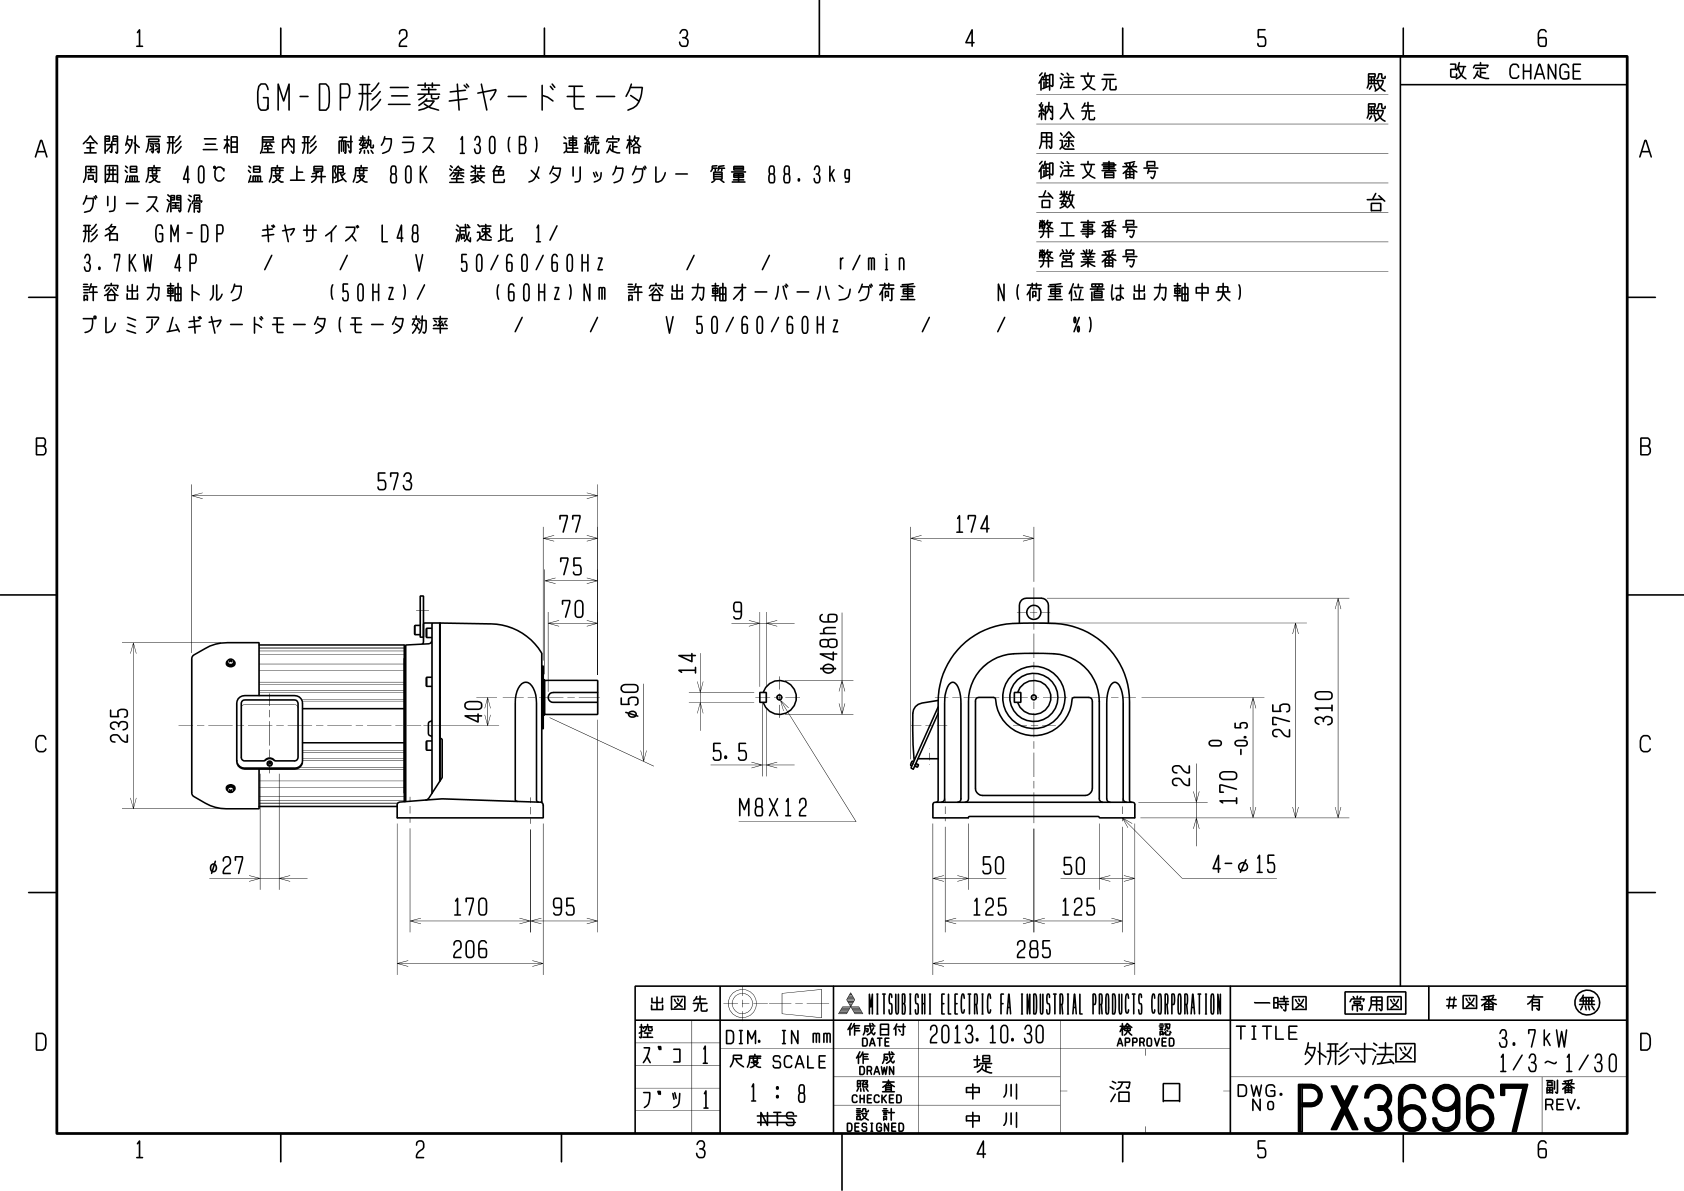GM_DP_屋内_三相_脚: (81, 403, 1377, 982)
